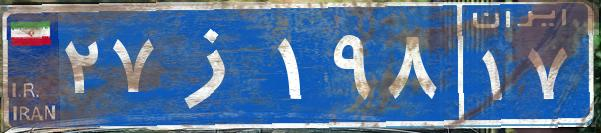1: (273, 28, 330, 110), (475, 38, 525, 113)
2: (57, 26, 110, 107)
7: (110, 28, 158, 105), (525, 38, 570, 115)
8: (385, 28, 445, 110)
9: (330, 28, 385, 110)
ز: (158, 15, 273, 115)
